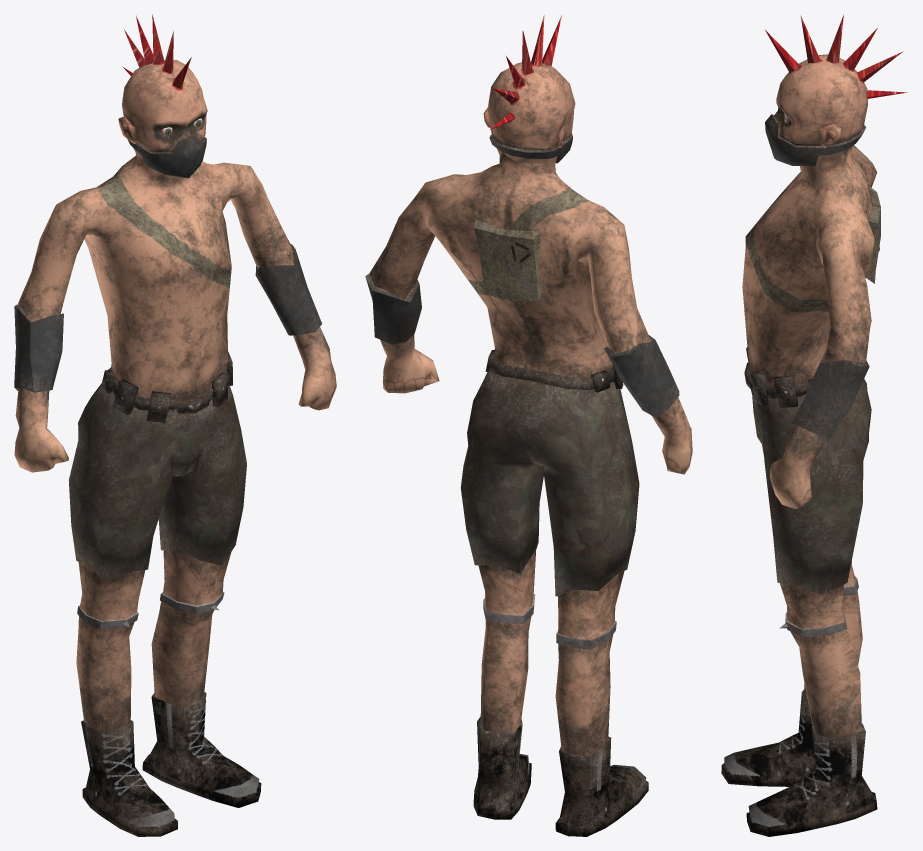
File: Anim_interruptor_npc2.0038.obj
3 renders of one model, left to right at view 1: azimuth 30°, elevation 25°; view 2: azimuth 150°, elevation 25°; view 3: azimuth 270°, elevation 25°, orthographic. The views are drawn at different scales.
Parts seen in each view (by area): view 1: polySurface1; view 2: polySurface1; view 3: polySurface1.
Boxes of the visible parts, x1=… form: polySurface1: x1=14, y1=14, x2=336, y2=836; polySurface1: x1=365, y1=15, x2=692, y2=836; polySurface1: x1=721, y1=14, x2=907, y2=836.
Size of the model in its own units: 4.29 by 10.18 by 2.19.
Materials: 2 (2 with a texture image).
